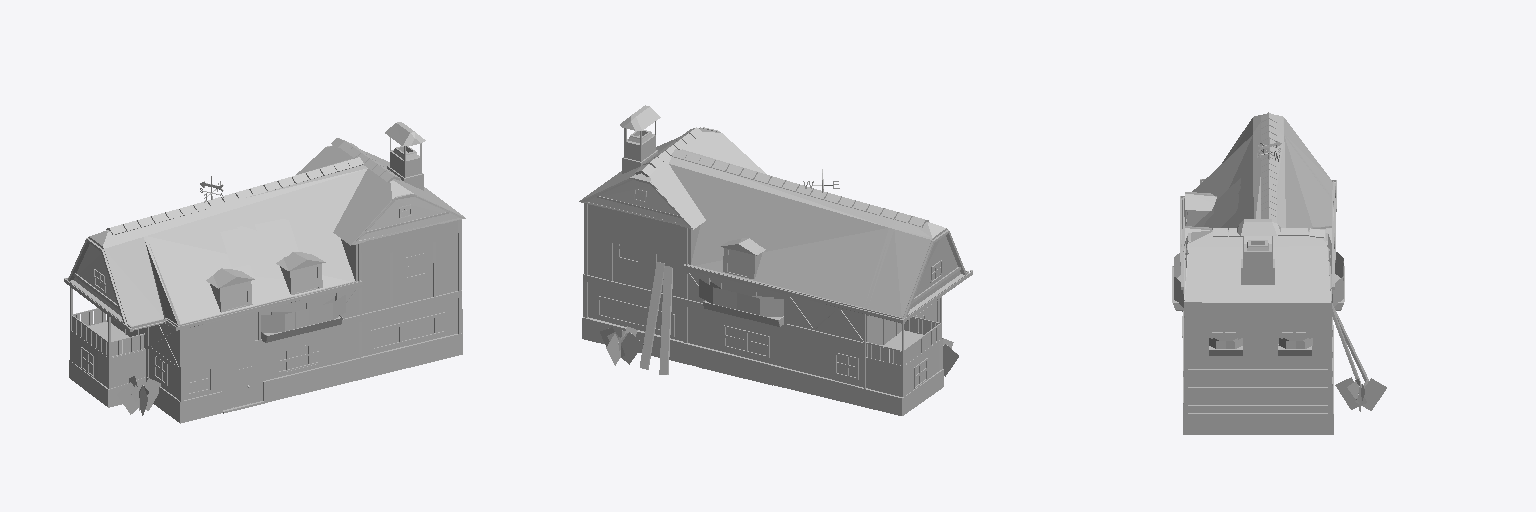
Rendered from Gost House (5).obj.
The picture shows the model from 3 angles: view 1: azimuth 30°, elevation 25°; view 2: azimuth 150°, elevation 25°; view 3: azimuth 270°, elevation 25°; orthographic projection.
Parts seen in each view (by area): view 1: Gost_House_(www.3dislands.blogspot.com), plants; view 2: Gost_House_(www.3dislands.blogspot.com), plants; view 3: Gost_House_(www.3dislands.blogspot.com), plants.
Boxes of the visible parts, <box> form: Gost_House_(www.3dislands.blogspot.com): <box>64,122,465,423</box>; plants: <box>98,219,439,415</box>; Gost_House_(www.3dislands.blogspot.com): <box>579,105,972,415</box>; plants: <box>600,208,958,385</box>; Gost_House_(www.3dislands.blogspot.com): <box>1172,112,1368,434</box>; plants: <box>1174,178,1386,411</box>.
Size of the model in its own units: 584 by 343 by 325.